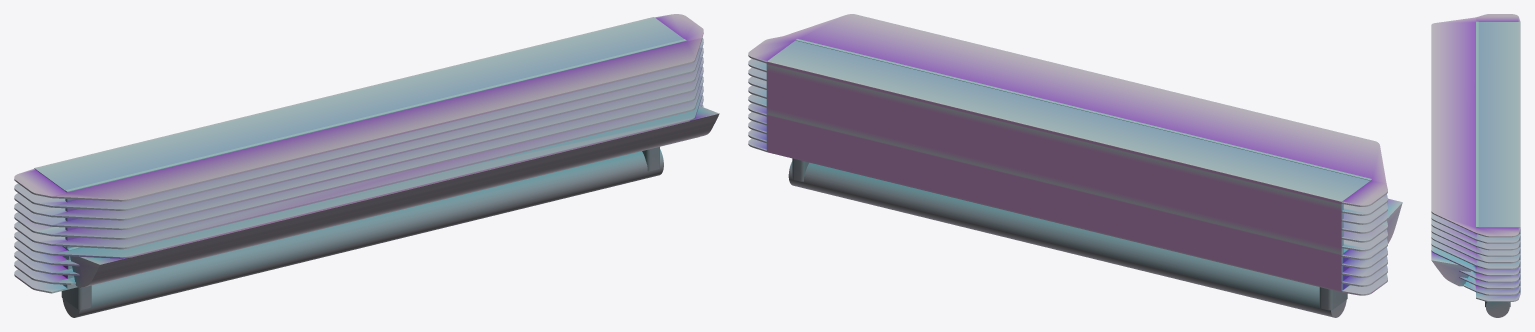
File: simready-lamp_uvc_b01.glb
3 renders of one model, left to right at view 1: azimuth 30°, elevation 25°; view 2: azimuth 150°, elevation 25°; view 3: azimuth 270°, elevation 25°, orthographic. The views are drawn at different scales.
Parts seen in each view (by area): view 1: curved_base, round_rail, tab; view 2: curved_base, round_rail, tab; view 3: curved_base, round_rail.
Part boxes in pixels (x1,y1,x2,y2): curved_base: (14,14,719,293); round_rail: (62,149,663,317); tab: (61,285,91,309); curved_base: (748,14,1402,295); round_rail: (788,161,1346,317); tab: (1319,287,1347,310); curved_base: (1431,14,1520,301); round_rail: (1486,302,1509,317).
Bounding box in the file's own units: 0.5294 × 0.114 × 0.09.
